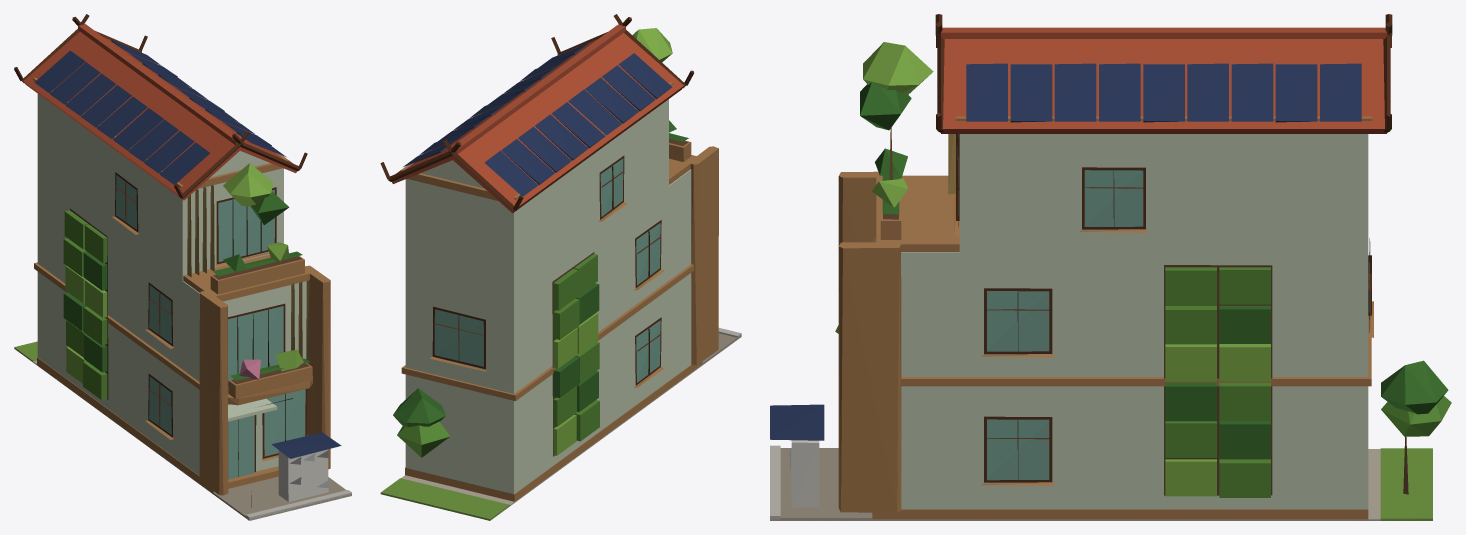
File: bay1_one.glb
3 renders of one model, left to right at view 1: azimuth 30°, elevation 25°; view 2: azimuth 150°, elevation 25°; view 3: azimuth 270°, elevation 25°, orthographic. The views are drawn at different scales.
Parts seen in each view (by area): view 1: body; view 2: body; view 3: body.
Part boxes in pixels (box(x1,y1,x2,y2)): body: box(14, 14, 351, 520); body: box(380, 14, 741, 520); body: box(770, 14, 1451, 520).
Bounding box in the file's own units: 5.23 × 12.39 × 16.36.
